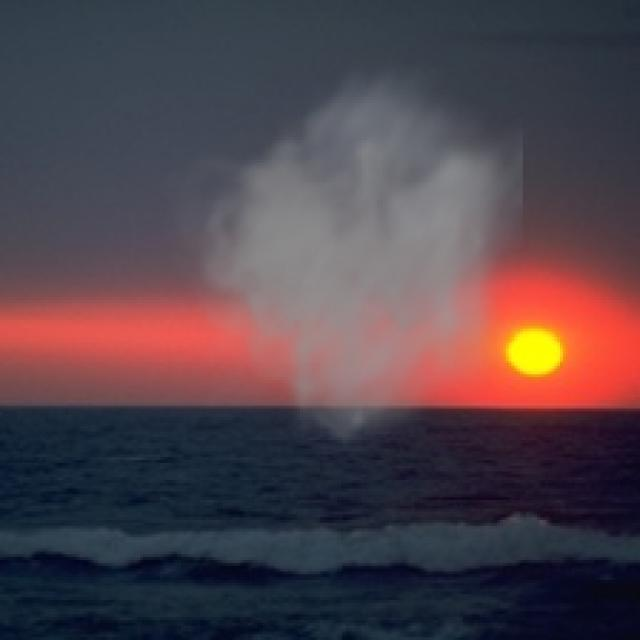Smoke: (160, 51, 523, 463)
